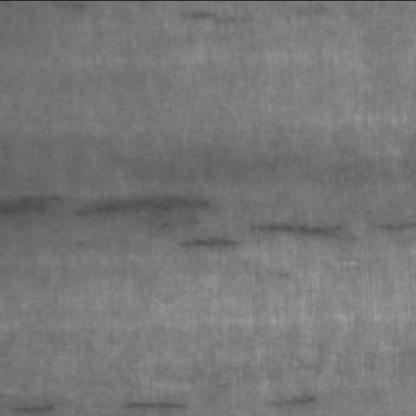inclusion: (73, 193, 233, 245), (248, 212, 362, 258), (118, 387, 198, 416), (2, 194, 77, 224), (183, 6, 252, 36), (264, 380, 322, 412), (176, 233, 249, 254)
